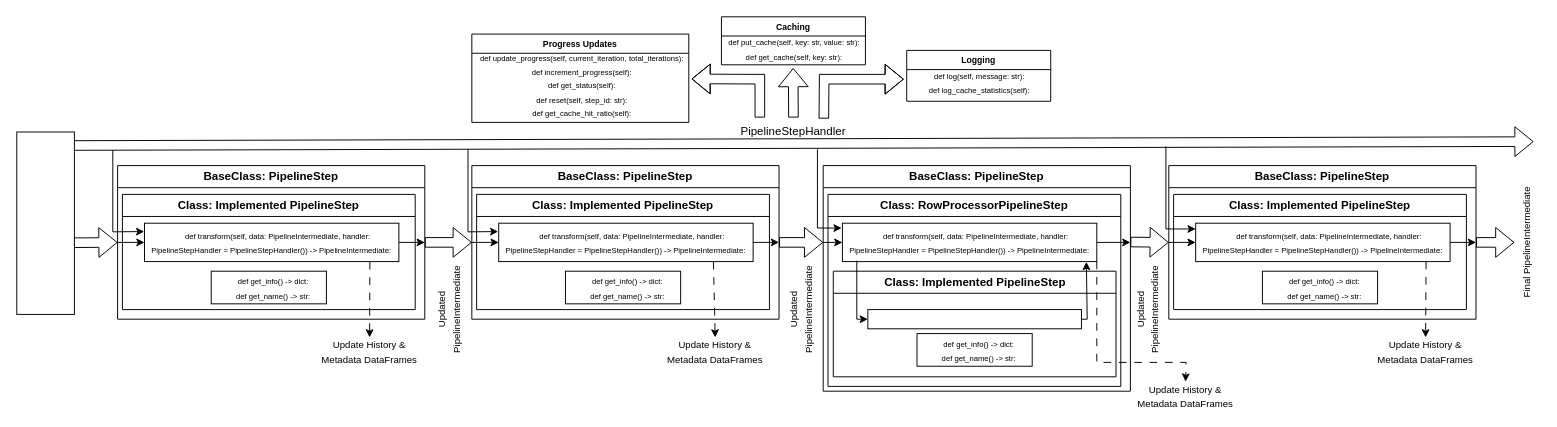
Some shapes in this 1557 by 427 pixel diagram are drawn without their labels. The shapes that lost their labels are listed below. From the top down, each one's centre as x and y in pixels, then its label:
At point (45, 222): "Initial PipelineIntermediate & PipelineStepHandler".
At point (974, 319): "def transform_row(self, data, handler) -> (str, Optional[str]):".
